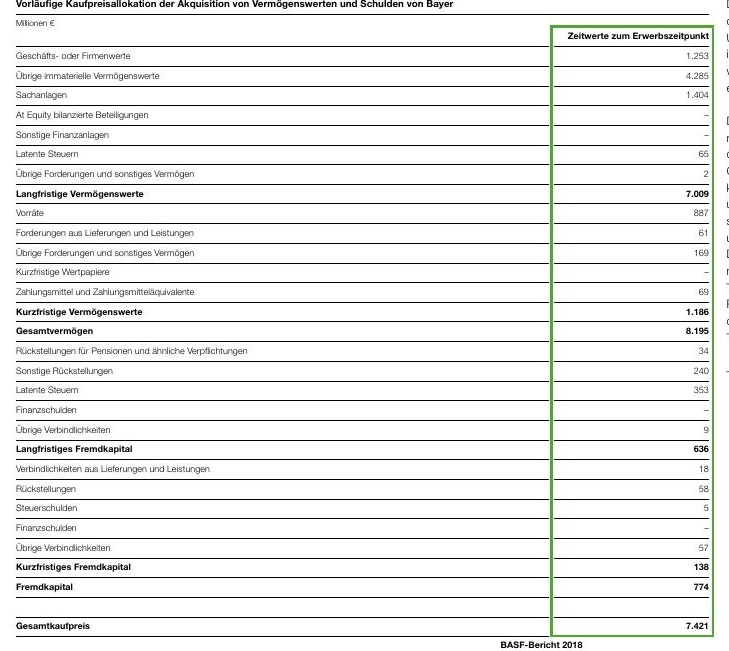table: (0, 0, 729, 651)
